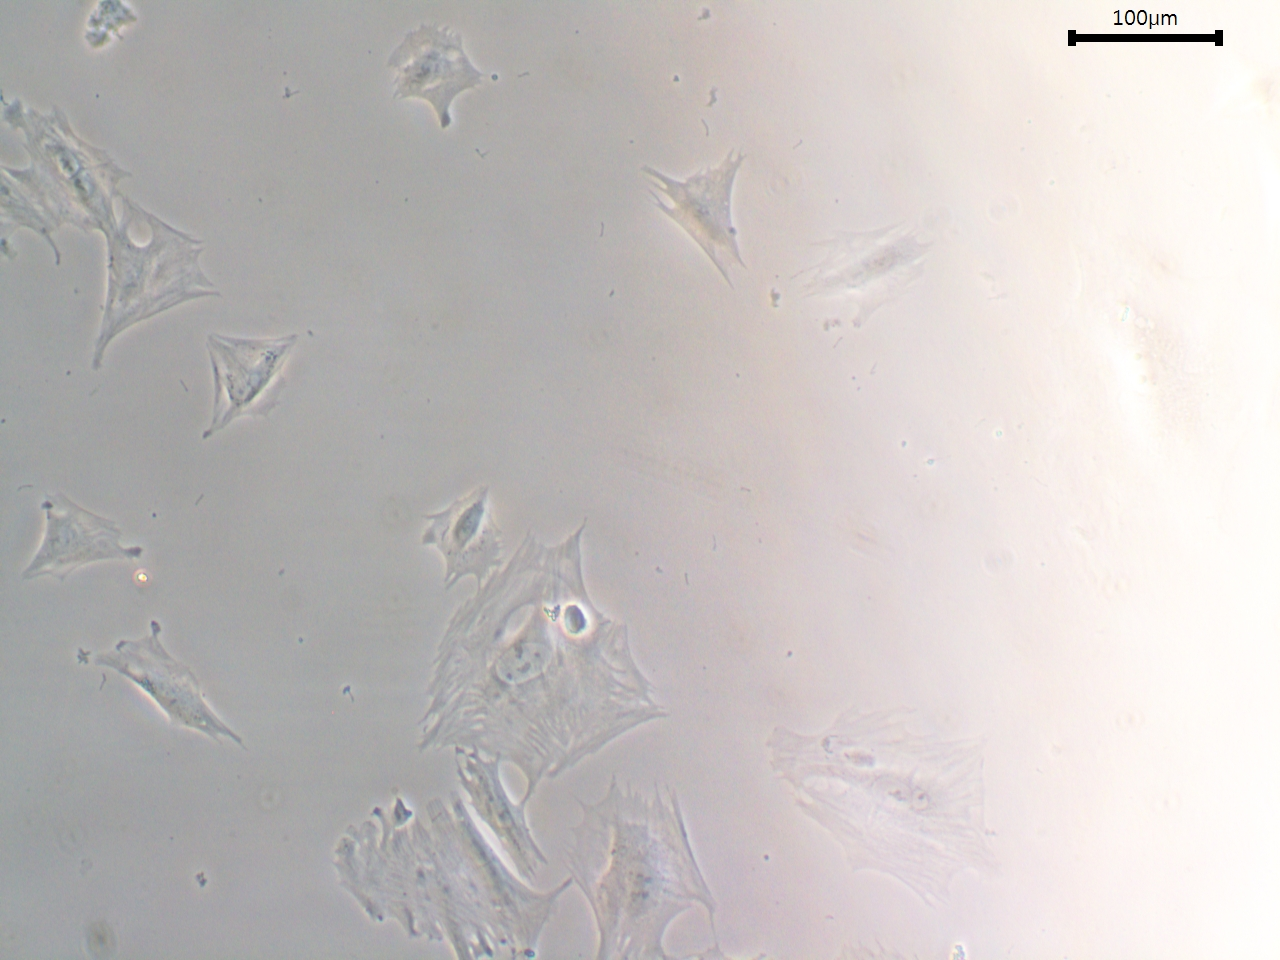dividing: (753, 671, 1026, 910), (767, 210, 966, 336), (1, 93, 122, 267)
medium-polygonal: (67, 612, 259, 755), (627, 142, 753, 293)
medium-spread: (424, 517, 683, 785), (299, 774, 571, 960), (550, 771, 719, 960)
small-polygonal: (196, 331, 303, 451)
small-spread: (8, 482, 163, 579), (376, 25, 494, 135), (417, 485, 513, 586)
